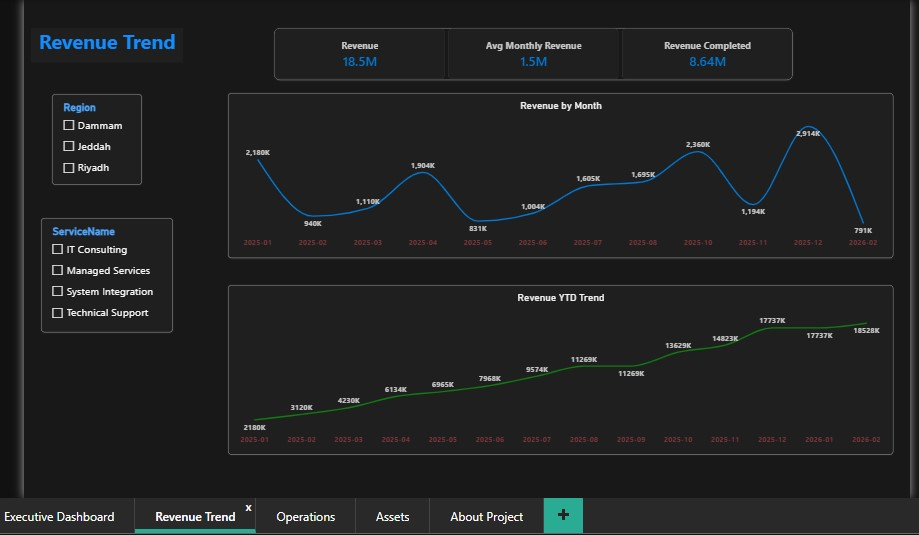

This screenshot's page, from the dashboard's own definition file:
{"tool":"powerbi","page":{"name":"Revenue Trend","canvas":[1920,1080],"ordinal":1},"visuals":[{"type":"lineChart","title":"Revenue by Month","fields":{"Category":["DimDate.YearMonth"],"Y":["_Measures.Revenue"]},"box":[442.5,202.5,1442.5,357.5],"z":0},{"type":"lineChart","title":"Revenue YTD Trend","fields":{"Category":["DimDate.YearMonth"],"Y":["_Measures.Cumulative Revenue"]},"box":[442.5,617.5,1442.5,367.5],"z":1000},{"type":"slicer","fields":{"Values":["DimClients.Region"]},"box":[60.3,203.2,195.2,197.3],"z":2000},{"type":"cardVisual","fields":{"Data":["_Measures.Revenue","_Measures.Avg Monthly Revenue","_Measures.Revenue Completed"]},"box":[542.5,60,1125,112.5],"z":3000},{"type":"textbox","box":[15,60,330,75],"z":4000},{"type":"slicer","fields":{"Values":["DimServices.ServiceName"]},"box":[37.5,472.5,285.8,247.8],"z":5000}]}

Visuals, with their boxes on the page's 1920x1080 design canvas (x1, y1, x2, y2). These are canvas units, not pixel positions in the 919x535 screenshot, which may show the page scaled, cropped or inside an application window:
"Revenue by Month" lineChart: [left=442, top=202, right=1885, bottom=560]
"Revenue YTD Trend" lineChart: [left=442, top=618, right=1885, bottom=985]
slicer - DimClients.Region: [left=60, top=203, right=256, bottom=400]
cardVisual - _Measures.Revenue x _Measures.Avg Monthly Revenue: [left=542, top=60, right=1668, bottom=172]
textbox: [left=15, top=60, right=345, bottom=135]
slicer - DimServices.ServiceName: [left=38, top=472, right=323, bottom=720]
